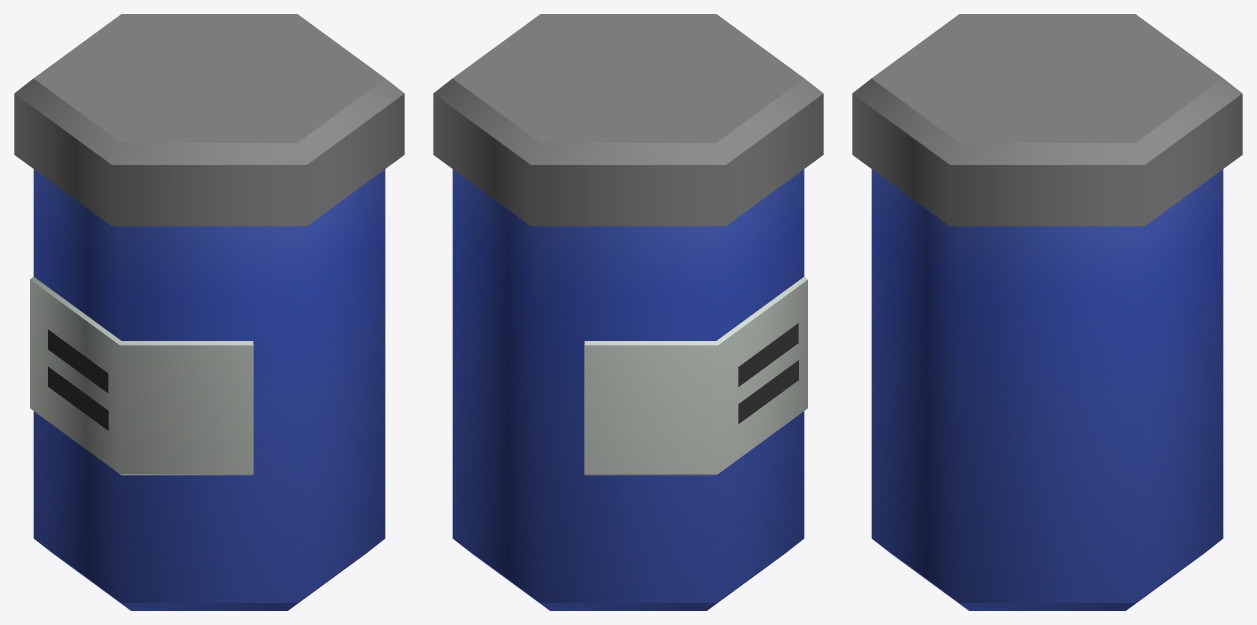
File: Jar_3_E.fbx
3 renders of one model, left to right at view 1: azimuth 30°, elevation 25°; view 2: azimuth 150°, elevation 25°; view 3: azimuth 270°, elevation 25°, orthographic.
Parts seen in each view (by area): view 1: Jar_3_E; view 2: Jar_3_E; view 3: Jar_3_E.
Part boxes in pixels (left/top/right/bottom): Jar_3_E: left=14, top=14, right=404, bottom=610; Jar_3_E: left=433, top=14, right=823, bottom=610; Jar_3_E: left=852, top=14, right=1242, bottom=610.
Size of the model in its own units: 17.99 by 27.9 by 20.77.
